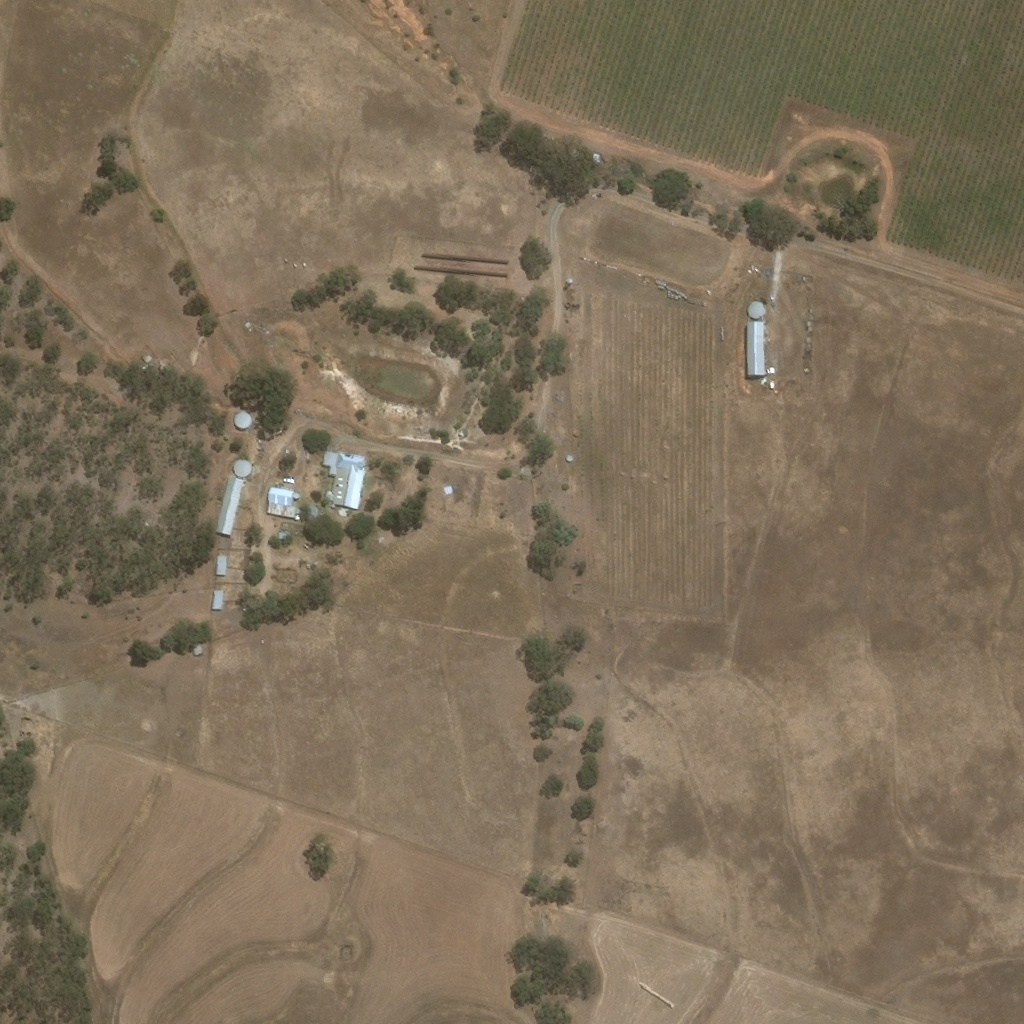0 no-damage: (320, 447, 367, 509), (214, 475, 244, 535), (412, 260, 505, 279), (420, 249, 508, 264), (747, 316, 766, 377), (265, 485, 300, 518), (231, 457, 251, 478), (233, 408, 253, 429), (747, 298, 764, 316), (214, 554, 228, 575), (211, 588, 223, 608), (190, 643, 203, 656), (337, 507, 348, 516), (566, 275, 575, 285), (568, 450, 575, 459)
